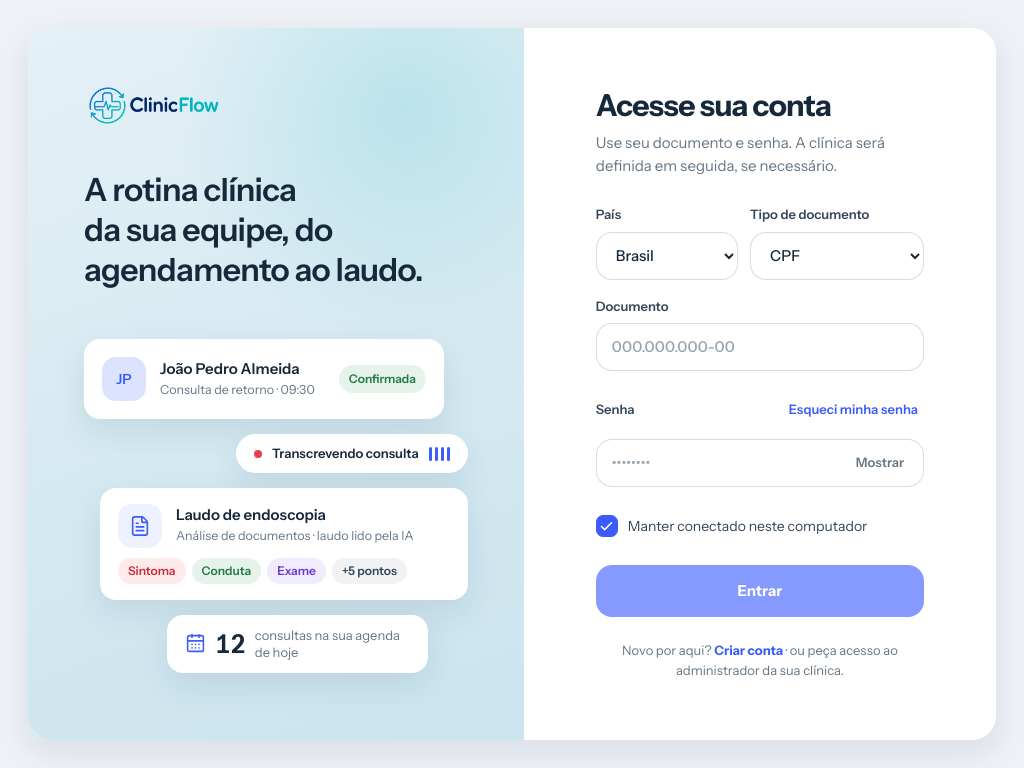
Test: LoginPage › exibe erro seguro sem revelar se o documento existe
The width and height of the screenshot is (1024, 768).
Type "123.456.789-01" into the field labelled "Documento" at (760, 347), box 596,323 -> 924,371
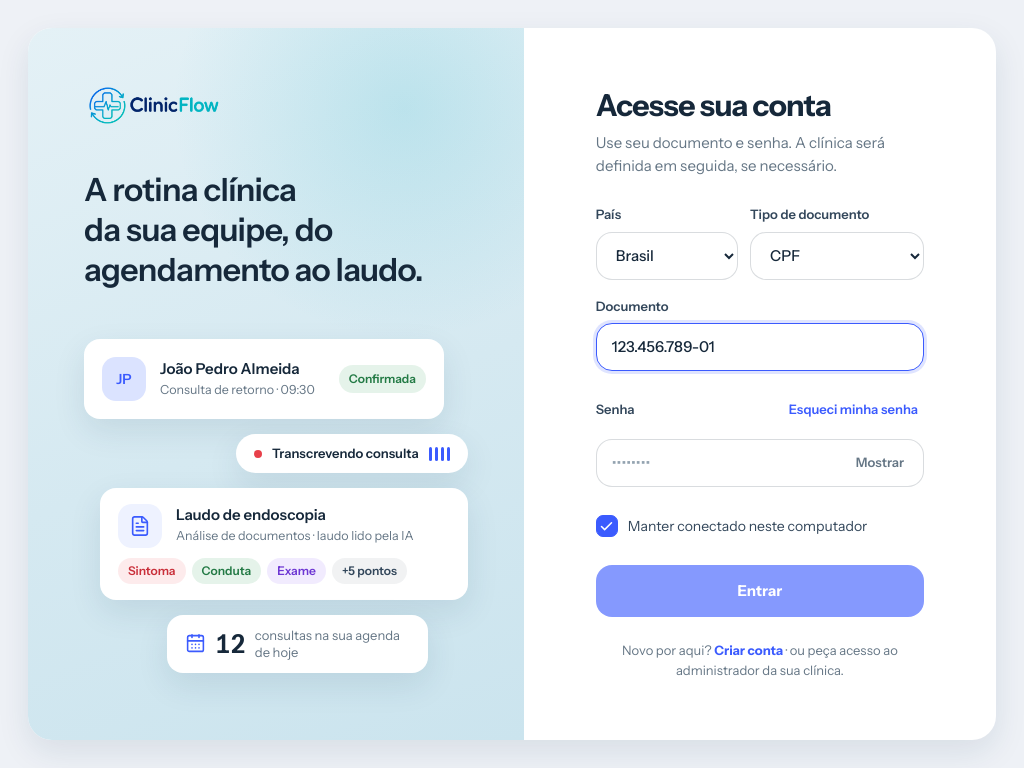
Type "Senha123!" into the password field labelled "Senha" at (760, 463), box 596,439 -> 924,487
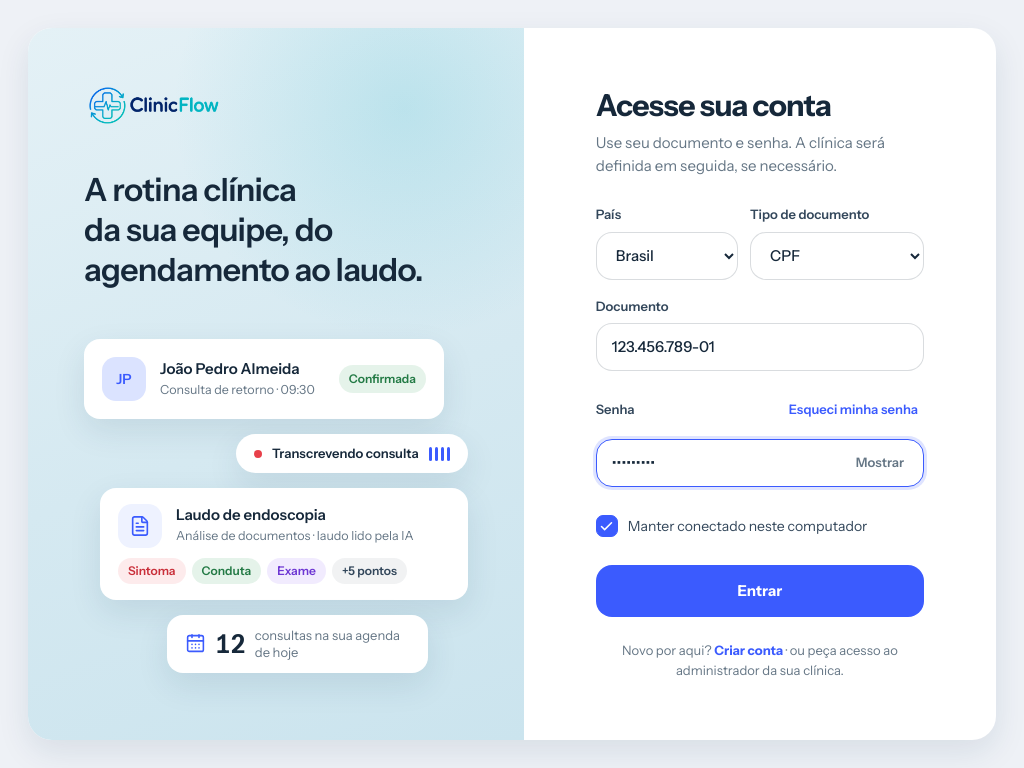
Click the button "Entrar" at (760, 591), box 596,565 -> 924,617
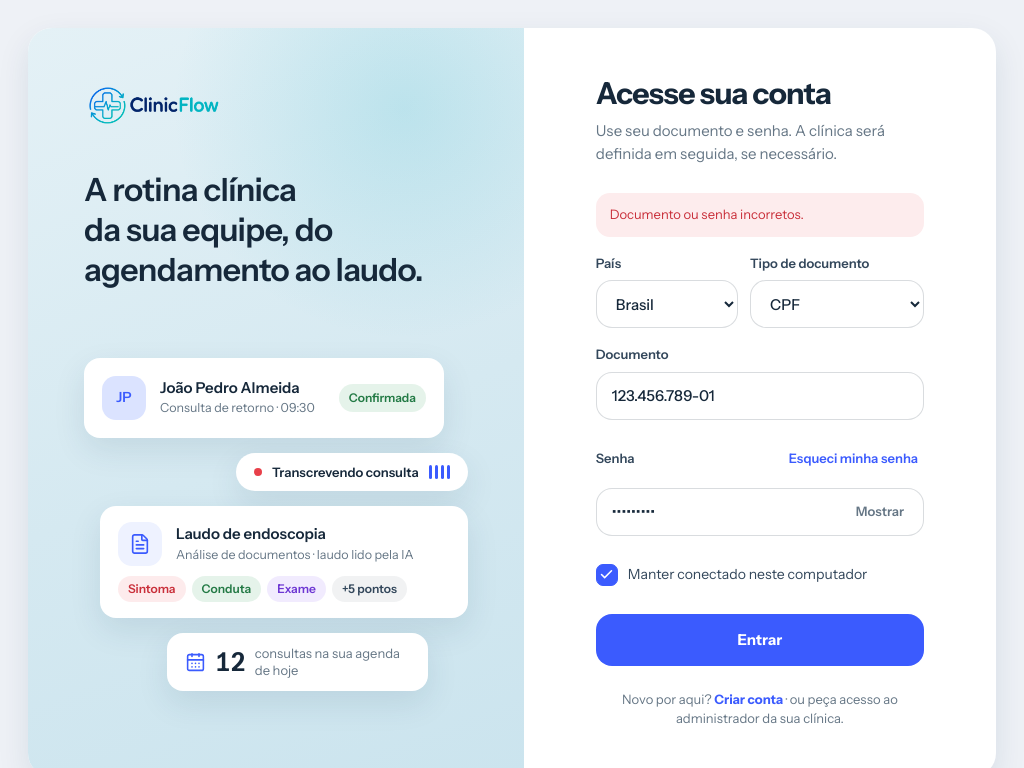
Now the message reads "Documento ou senha incorretos.", box 610,206 -> 804,222
